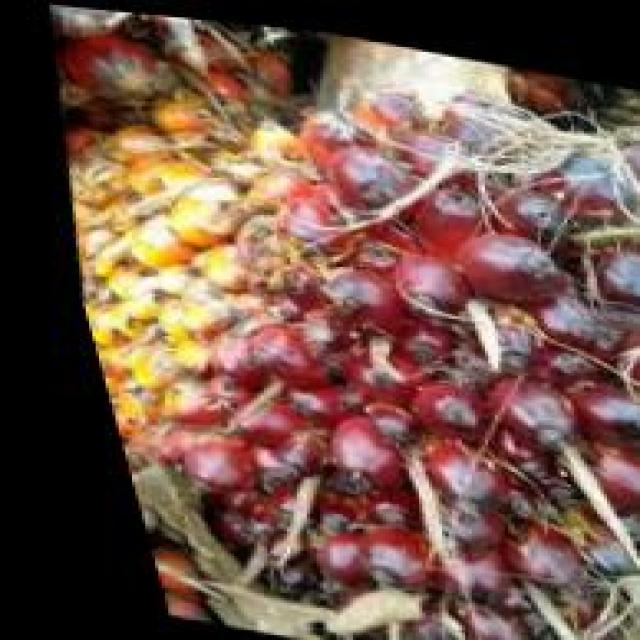Ripefruit: (69, 27, 640, 640)
